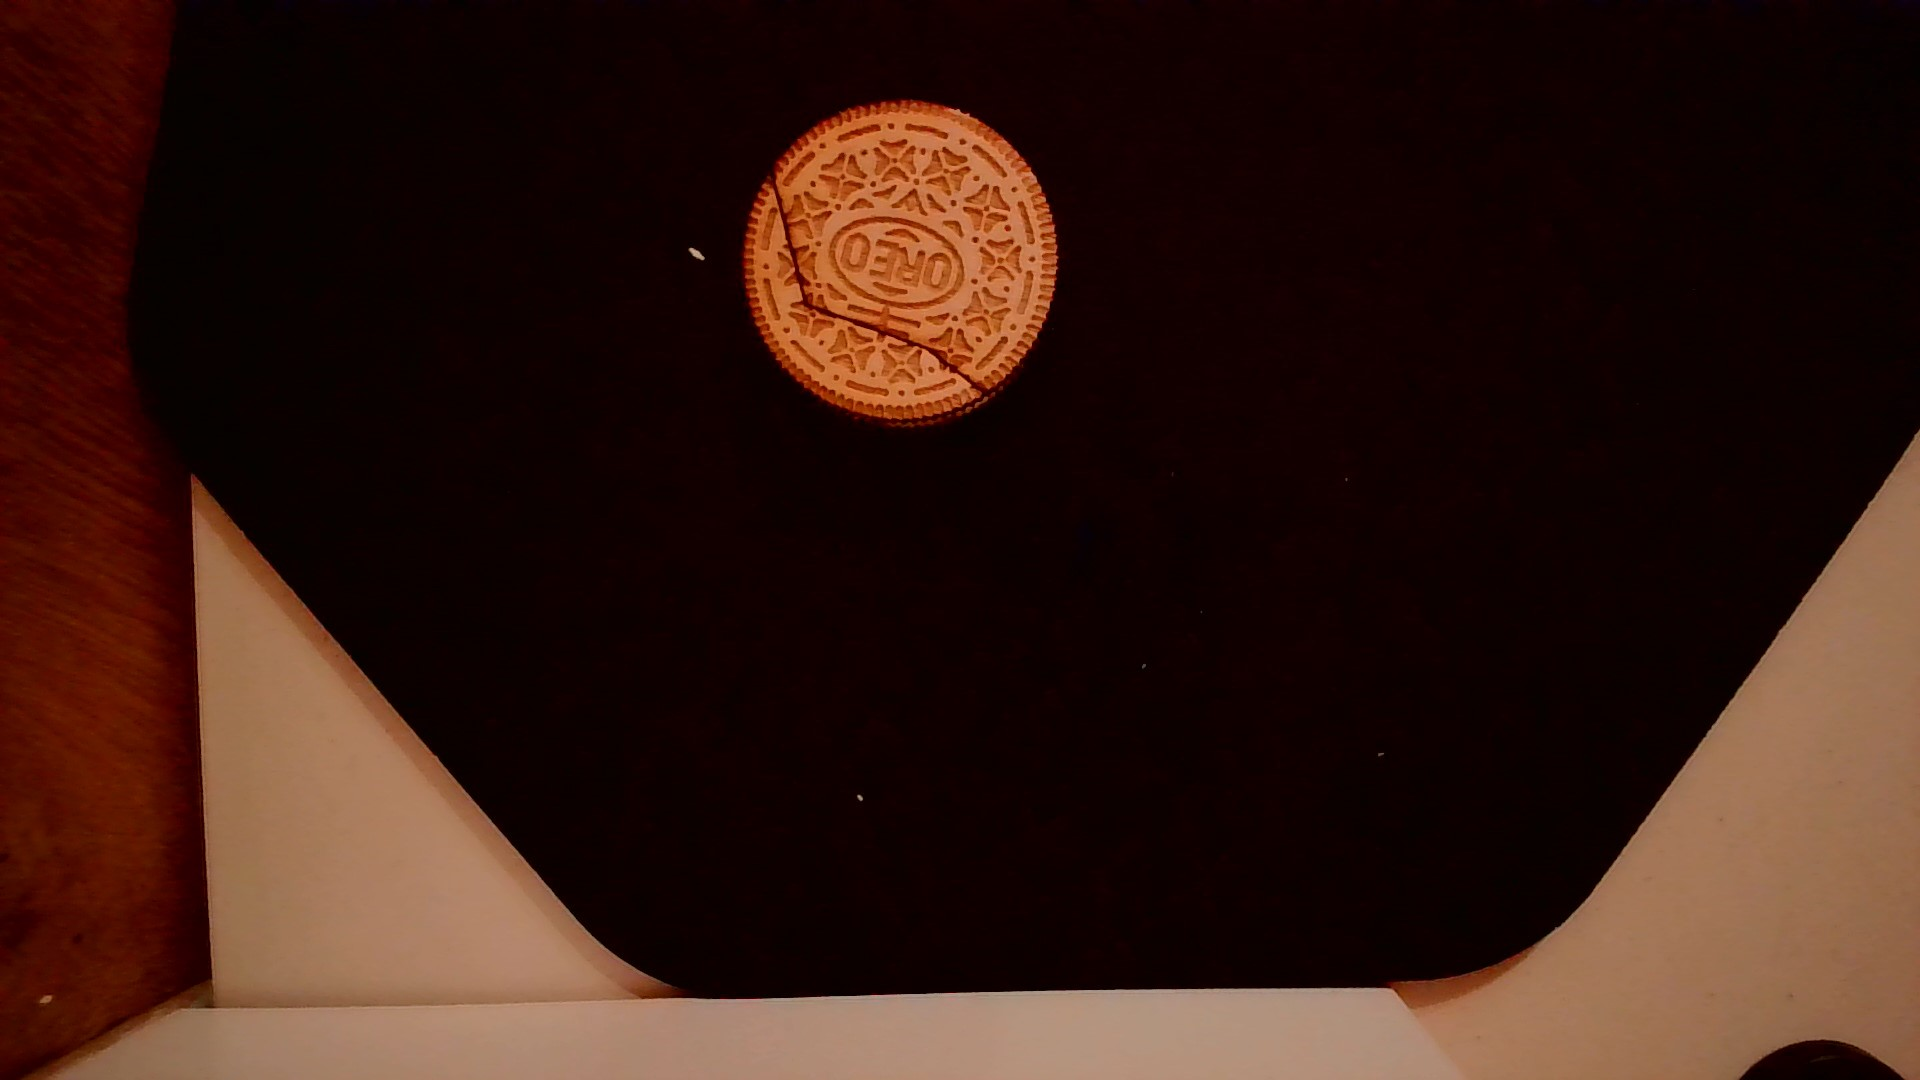Fissure: (761, 165, 996, 405)
Oréo: (737, 94, 1065, 434)
